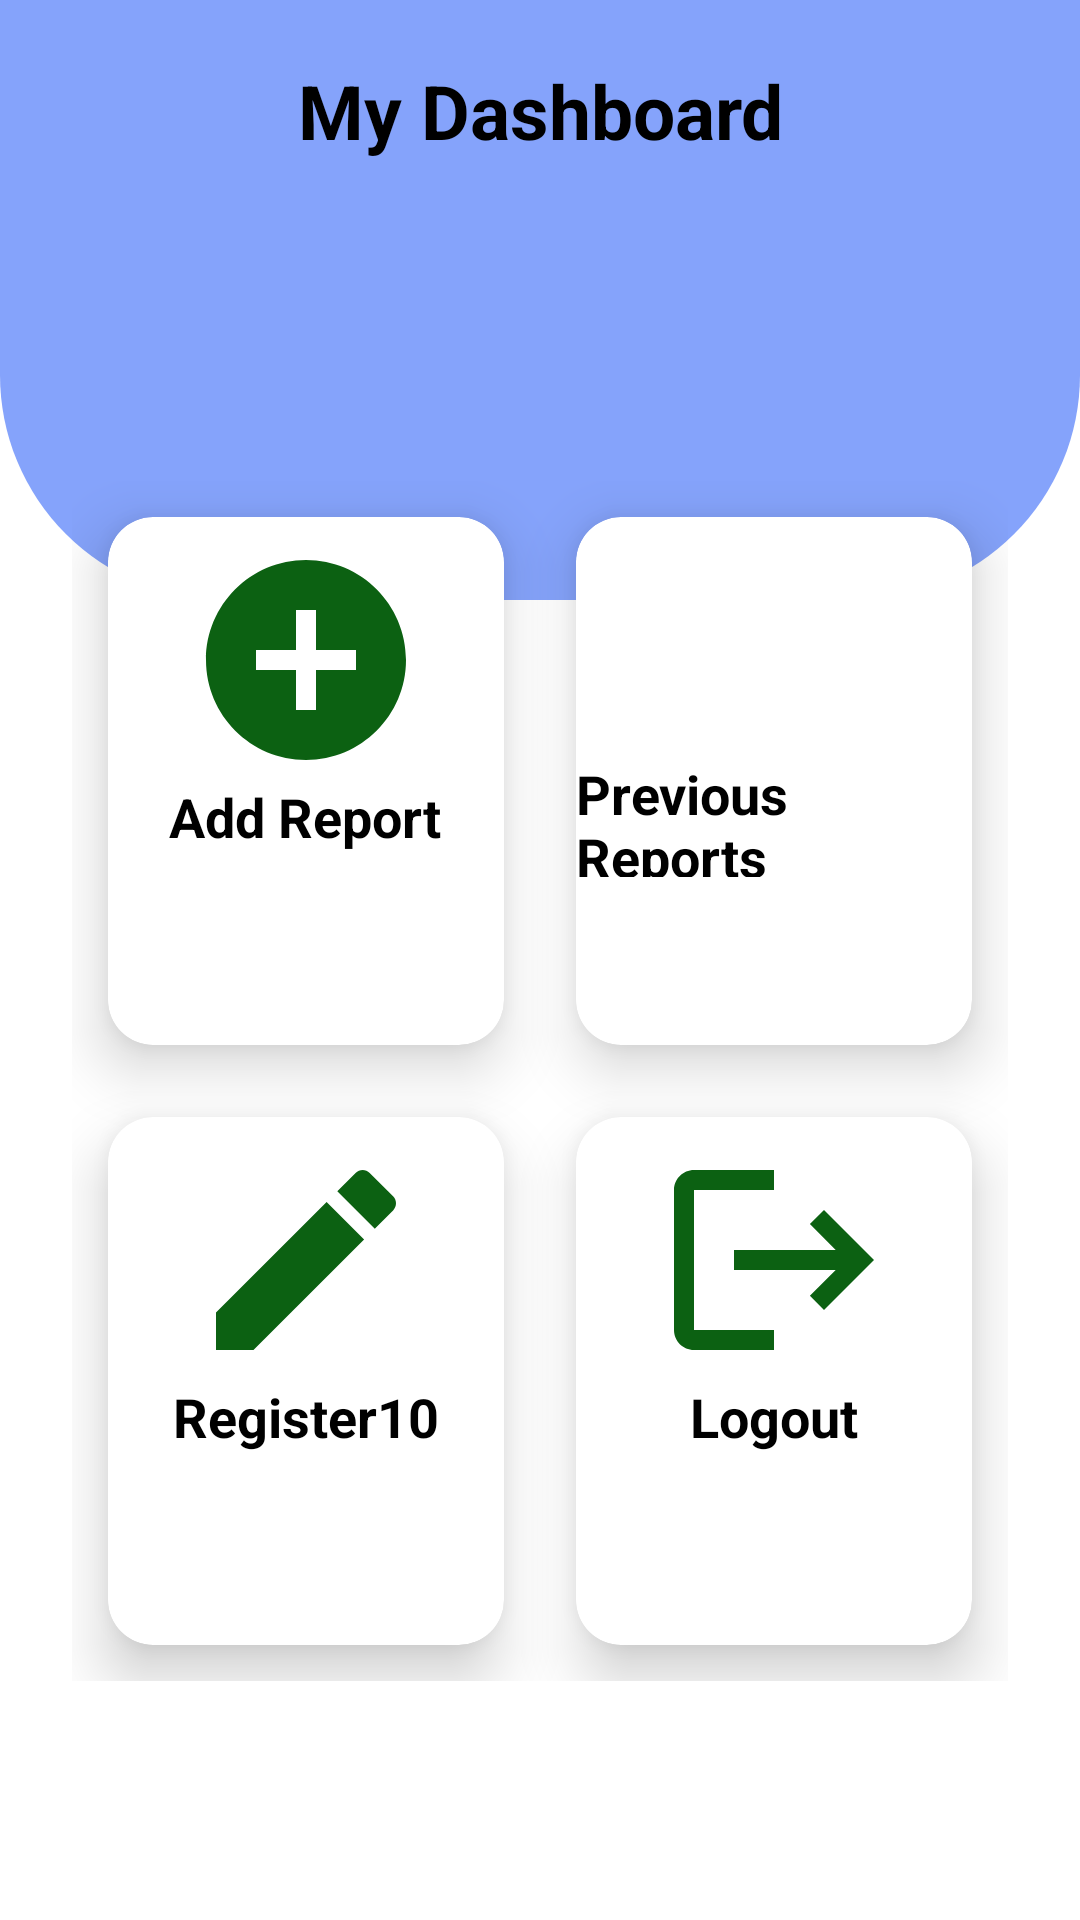

Where icons sit on this 1080px x 1920px app screen, as (x1, y1, x2, y2):
add circle: (205, 560, 406, 760)
edit: (216, 1170, 396, 1350)
